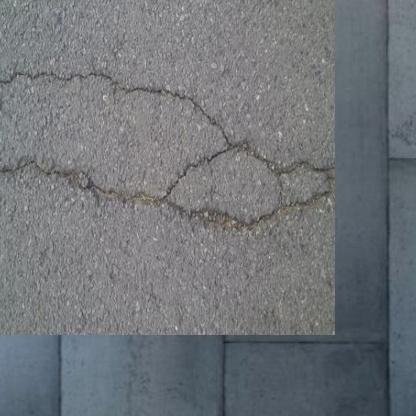Cracks: (0, 61, 310, 217)
